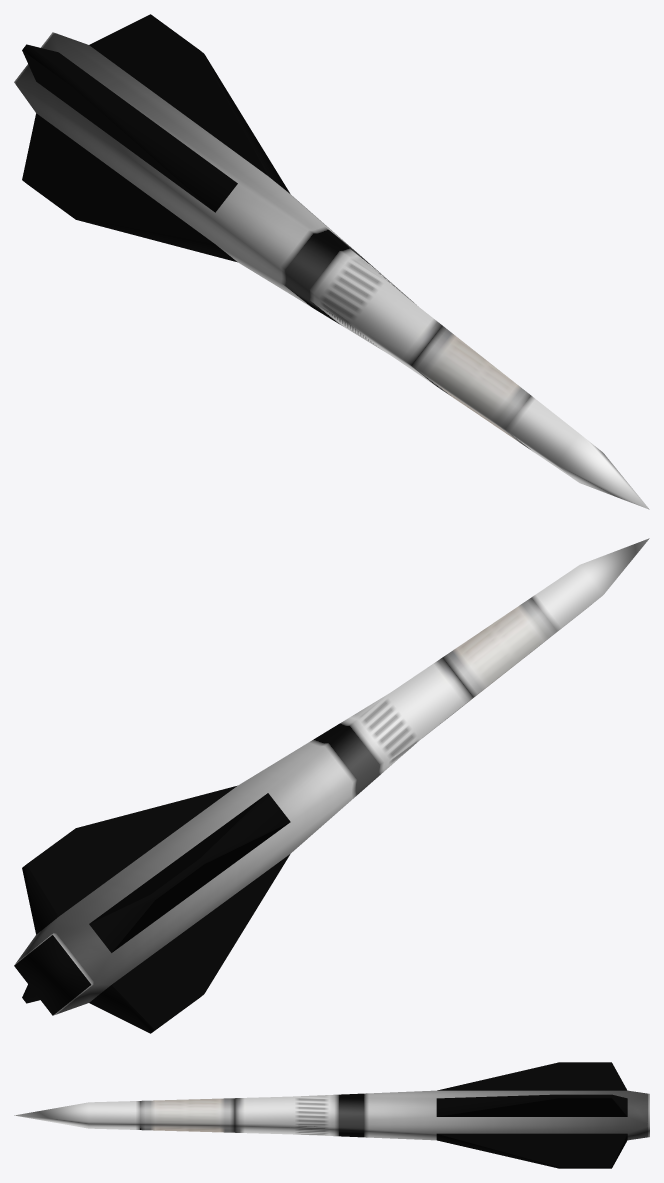
The model's file is sam.fbx.
3 renders of one model, top to bottom at view 1: azimuth 30°, elevation 25°; view 2: azimuth 150°, elevation 25°; view 3: azimuth 270°, elevation 25°, orthographic. The views are drawn at different scales.
Visible parts, largest first — view 1: sam; view 2: sam; view 3: sam.
Part boxes in pixels (left/top/right/bottom): sam: left=14, top=14, right=649, bottom=509; sam: left=14, top=538, right=649, bottom=1033; sam: left=14, top=1062, right=649, bottom=1168.
Size of the model in its own units: 13.83 by 13.83 by 107.
